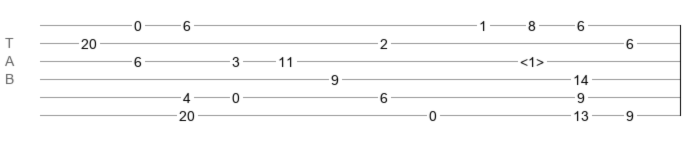0: (134, 18, 142, 28), (232, 90, 240, 100), (429, 108, 437, 118)
1: (479, 18, 487, 28)
11: (278, 54, 294, 64)
13: (573, 108, 589, 118)
14: (573, 72, 589, 82)
2: (380, 36, 388, 46)
20: (81, 36, 97, 46), (179, 108, 195, 118)
3: (232, 54, 240, 64)
4: (183, 90, 191, 100)
6: (134, 54, 142, 64), (183, 18, 191, 28), (380, 90, 388, 100), (577, 18, 585, 28), (626, 36, 634, 46)
8: (528, 18, 536, 28)
9: (331, 72, 339, 82), (577, 90, 585, 100), (626, 108, 634, 118)
harmonic: (520, 54, 544, 64)
